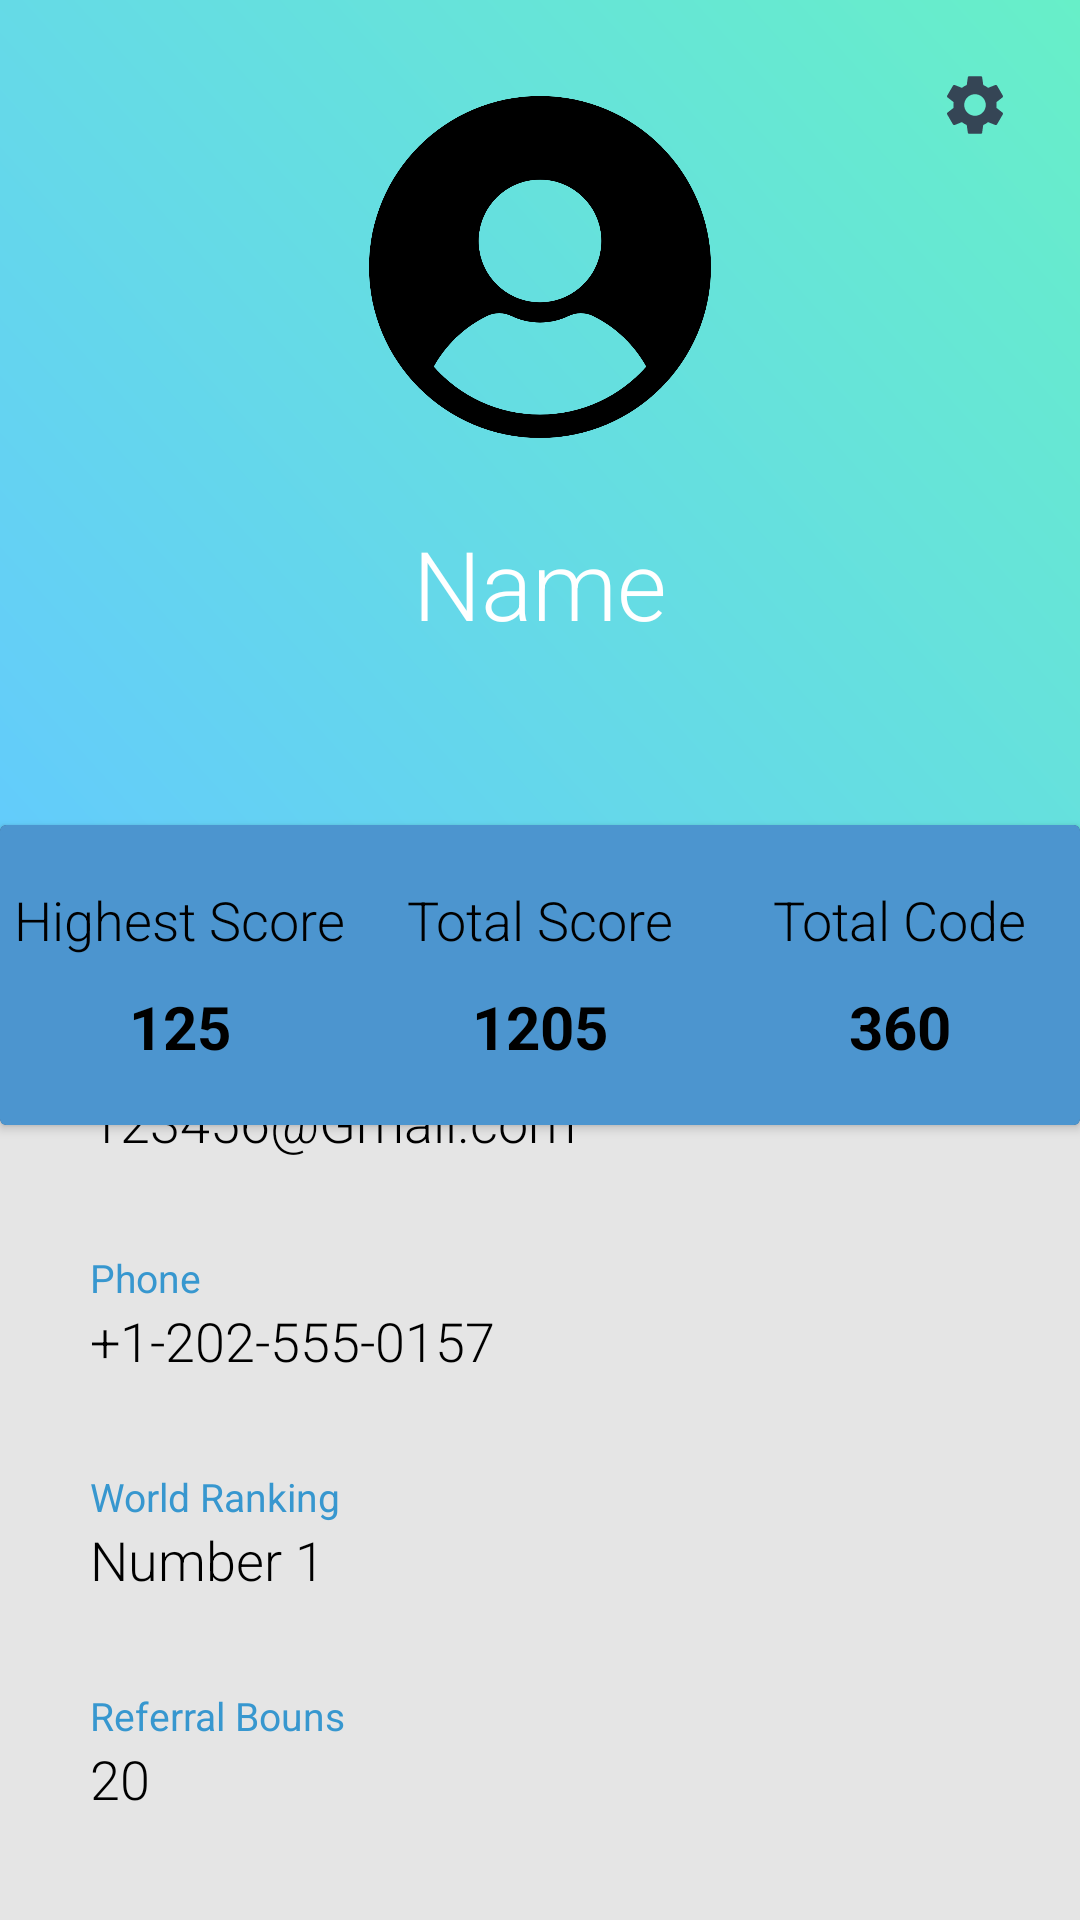

Icons on this 1080x1920 Android screen, each with the point to tap as (x=x, y=y):
settings: (x=975, y=105)
user: (x=540, y=267)
